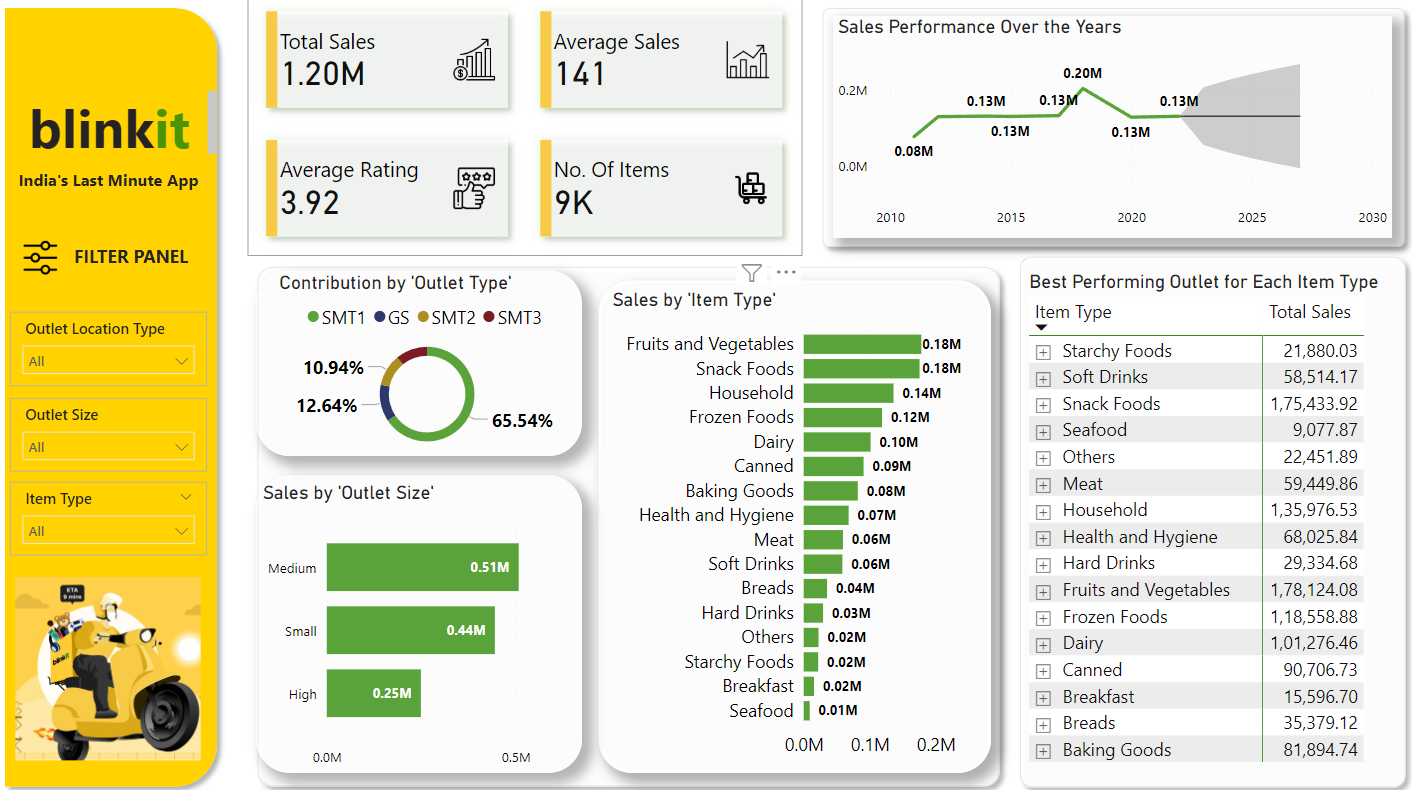

The page's visual inventory and layout, read from the dashboard file:
{"tool":"powerbi","page":{"name":"Page 1","canvas":[1280,720],"ordinal":0},"visuals":[{"type":"shape","box":[0,0,209.1,720.2],"z":0},{"type":"shape","box":[737.4,0,542.9,233.6],"z":1000},{"type":"shape","box":[227.4,233.6,687.2,486.7],"z":2000},{"type":"donutChart","title":"Contribution by ''Outlet Type''","fields":{"Y":["BlinkIT Grocery Data.Total Sales"],"Category":["BlinkIT Grocery Data.Outlet Type"]},"box":[236,245.8,293.5,167.5],"z":3000},{"type":"barChart","title":"Sales by ''Item Type''\n","fields":{"Category":["BlinkIT Grocery Data.Item Type"],"Y":["BlinkIT Grocery Data.Total Sales"]},"box":[544.2,254.3,353.4,443.9],"z":4000},{"type":"cardVisual","fields":{"Data":["BlinkIT Grocery Data.Total Sales","BlinkIT Grocery Data.Average Sales","BlinkIT Grocery Data.Average Rating","BlinkIT Grocery Data.No. Of Items"]},"box":[227.4,0,500.1,233.6],"z":5000},{"type":"lineChart","title":"Sales Performance Over the Years","fields":{"Category":["BlinkIT Grocery Data.Outlet Establishment Year"],"Y":["Sum(BlinkIT Grocery Data.Sales)"]},"box":[755.7,15.9,505,200.5],"z":6000},{"type":"shape","box":[914.7,223.8,365.6,496.5],"z":7000},{"type":"pivotTable","title":"Best Performing Outlet for Each Item Type","fields":{"Rows":["BlinkIT Grocery Data.Item Type","BlinkIT Grocery Data.Outlet Identifier"],"Values":["BlinkIT Grocery Data.Total Sales"]},"box":[923.2,245.8,339.9,463.5],"z":8000},{"type":"barChart","title":"Sales by ''Outlet Size''","fields":{"Y":["BlinkIT Grocery Data.Total Sales"],"Category":["BlinkIT Grocery Data.Outlet Size"]},"box":[236,430.4,293.5,267.8],"z":9000},{"type":"slicer","fields":{"Values":["BlinkIT Grocery Data.Outlet Location Type"]},"box":[13.5,282.5,177.3,67.3],"z":10000},{"type":"slicer","fields":{"Values":["BlinkIT Grocery Data.Outlet Size"]},"box":[13.5,360.7,177.3,66],"z":11000},{"type":"slicer","fields":{"Values":["BlinkIT Grocery Data.Item Type"]},"box":[13.5,436.6,177.3,66],"z":12000},{"type":"textbox","box":[59.9,216.4,126,37.9],"z":13000},{"type":"textbox","box":[10.3,78.5,194.3,70.3],"z":14000},{"type":"textbox","box":[0,148.8,204.6,43.4],"z":15000},{"type":"image","box":[17.1,214,47.7,40.4],"z":16000},{"type":"image","box":[13.5,516,177.3,176.1],"z":17000}]}

Visuals, with their boxes in screenshot pixels (x1, y1, x2, y2), scaled from the page's 1280x720 canvas onto the 1412x790 screenshot:
shape: (0,0,231,789)
shape: (813,0,1411,256)
shape: (251,256,1009,789)
"Contribution by ''Outlet Type''" donutChart: (260,270,584,453)
"Sales by ''Item Type''
" barChart: (600,279,990,766)
cardVisual - BlinkIT Grocery Data.Total Sales x BlinkIT Grocery Data.Average Sales: (251,0,803,256)
"Sales Performance Over the Years" lineChart: (834,17,1391,237)
shape: (1009,246,1411,789)
"Best Performing Outlet for Each Item Type" pivotTable: (1018,270,1393,778)
"Sales by ''Outlet Size''" barChart: (260,472,584,766)
slicer - BlinkIT Grocery Data.Outlet Location Type: (15,310,210,384)
slicer - BlinkIT Grocery Data.Outlet Size: (15,396,210,468)
slicer - BlinkIT Grocery Data.Item Type: (15,479,210,551)
textbox: (66,237,205,279)
textbox: (11,86,226,163)
textbox: (0,163,226,211)
image: (19,235,71,279)
image: (15,566,210,759)
